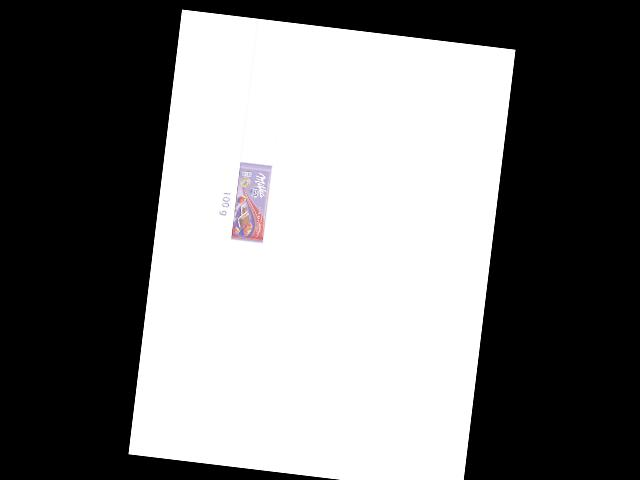chocolate: (227, 161, 272, 243)
